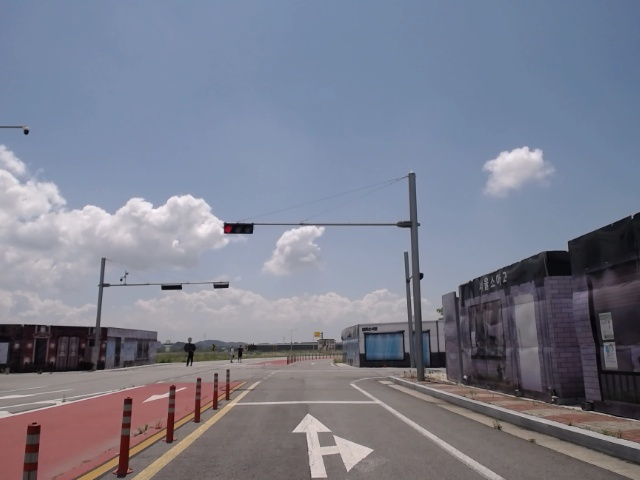red_3: (223, 223, 254, 235)
